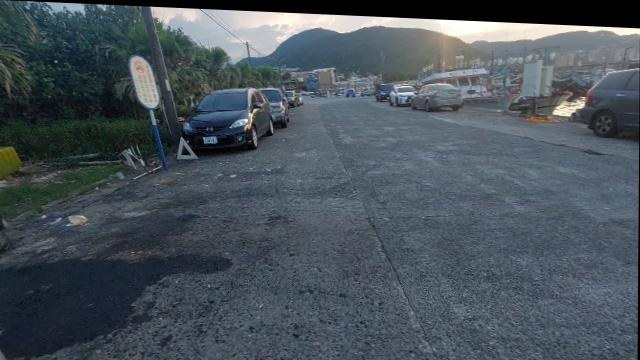pollute: (118, 143, 162, 183), (0, 144, 25, 179), (67, 214, 89, 224)
